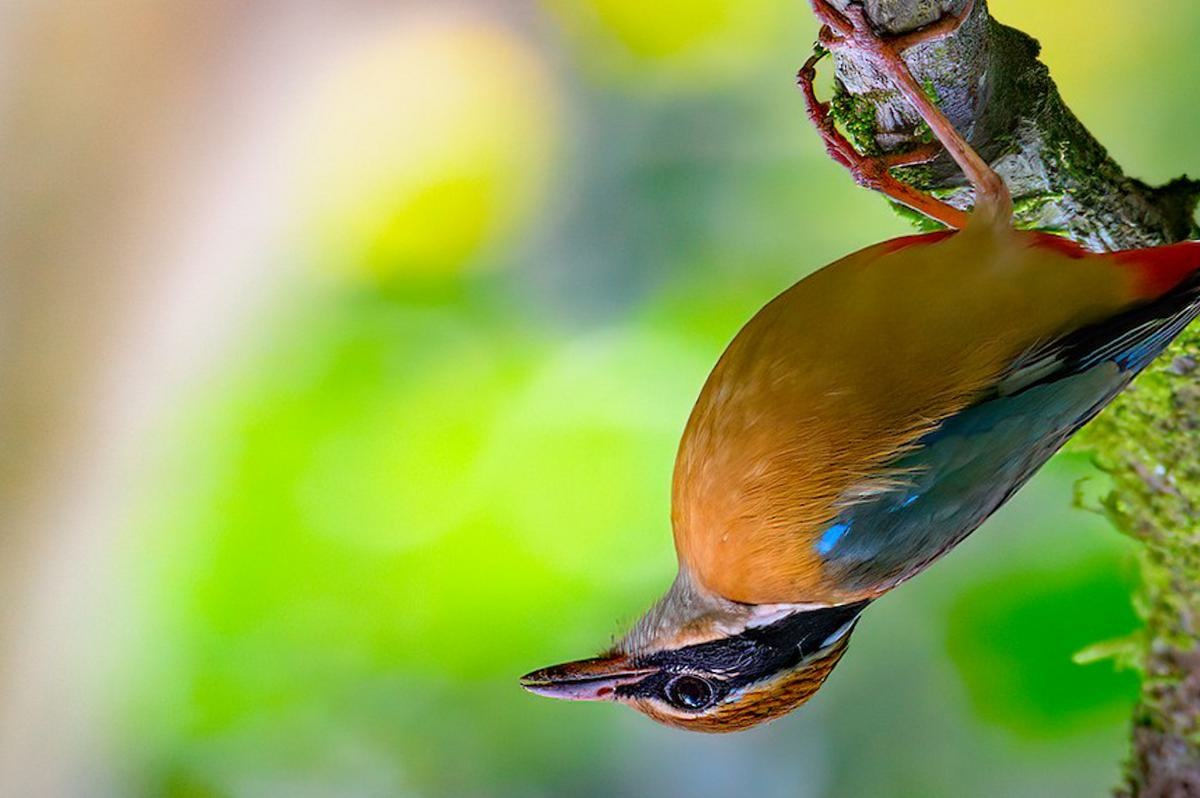pitta: (526, 157, 1175, 749)
